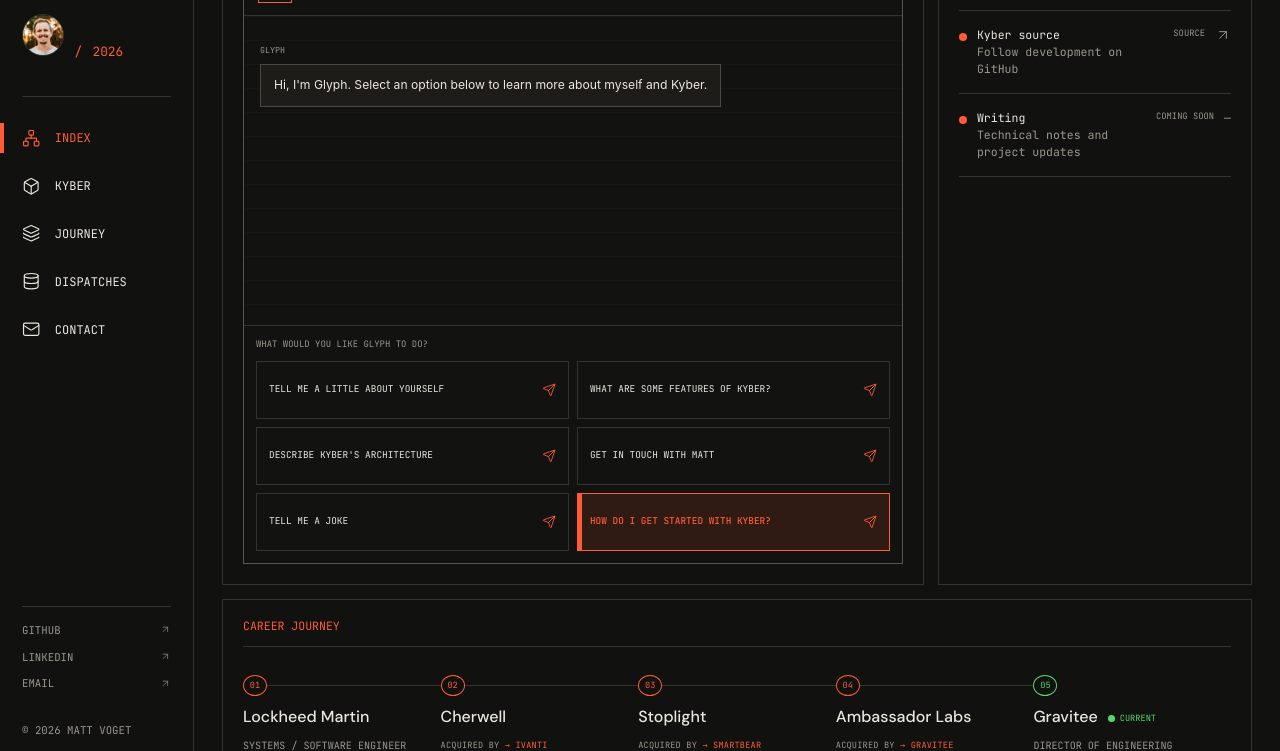
Test: App › renders Glyph responses as safe GitHub-flavored Markdown
(page scrolled)
Step 1. Click the button "Tell me a little about yourself" → {"x": 412, "y": 390}, box [256,361,569,419]
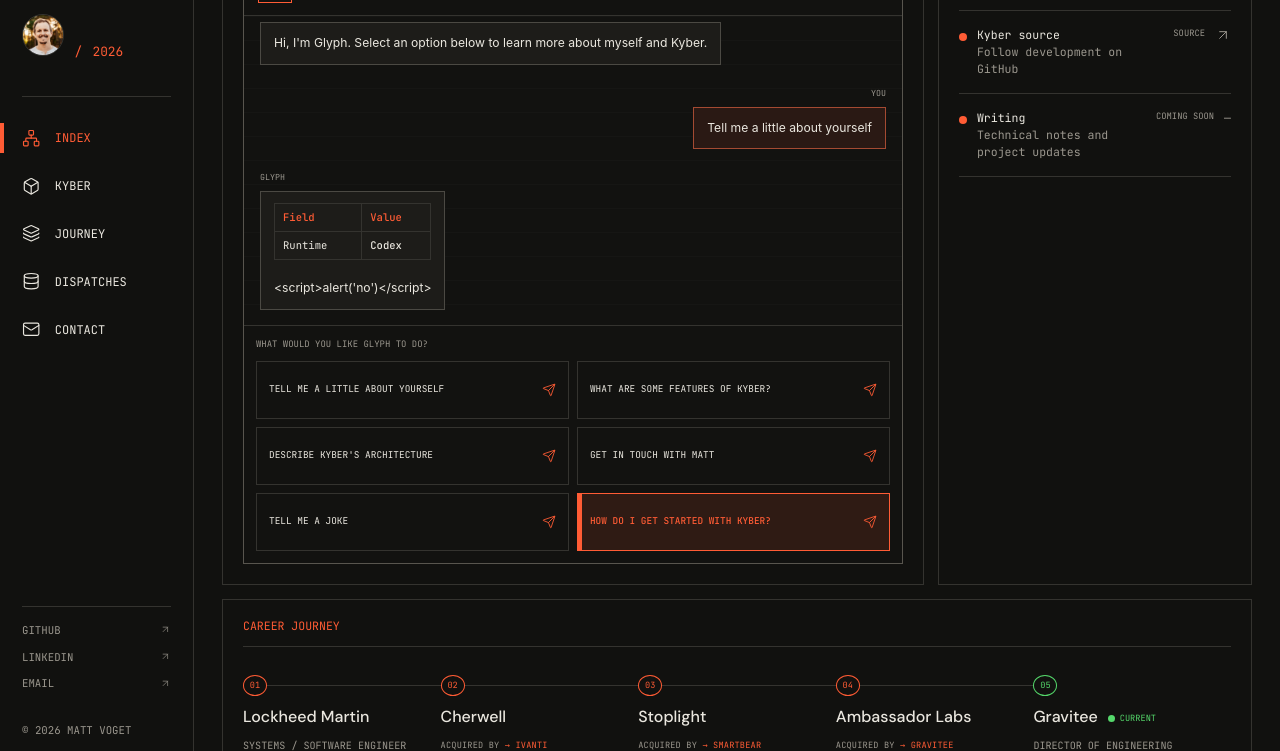
Now the table is shown, box [274,203,432,260]
Now the text "Codex" is shown, box [370,238,402,252]
